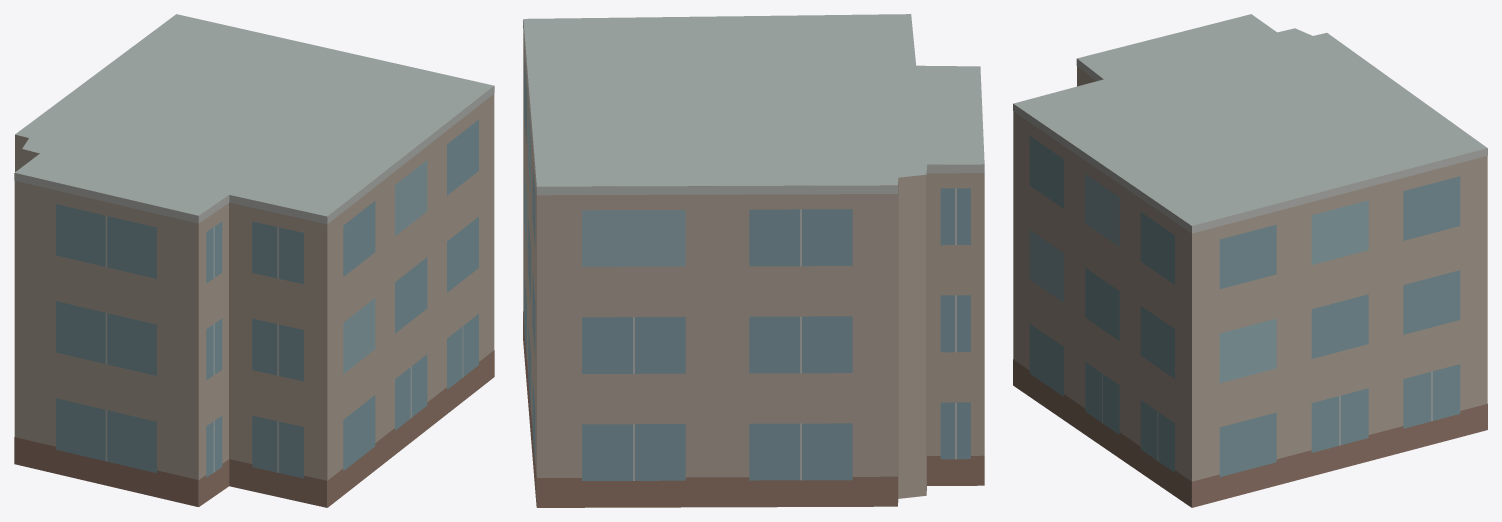
File: survey-upis-32695647.glb
3 views of the same model, side by side, from view 1: azimuth 30°, elevation 25°; view 2: azimuth 150°, elevation 25°; view 3: azimuth 270°, elevation 25° (orthographic). The views are drawn at different scales.
Visible parts, largest first — view 1: survey-upis-32695647.tmp; view 2: survey-upis-32695647.tmp; view 3: survey-upis-32695647.tmp.
Boxes of the visible parts, x1,y1,x2,y2 form: survey-upis-32695647.tmp: (14, 14, 494, 507); survey-upis-32695647.tmp: (523, 14, 984, 507); survey-upis-32695647.tmp: (1013, 14, 1487, 507).
Size of the model in its own units: 14.77 by 9.15 by 13.97.
